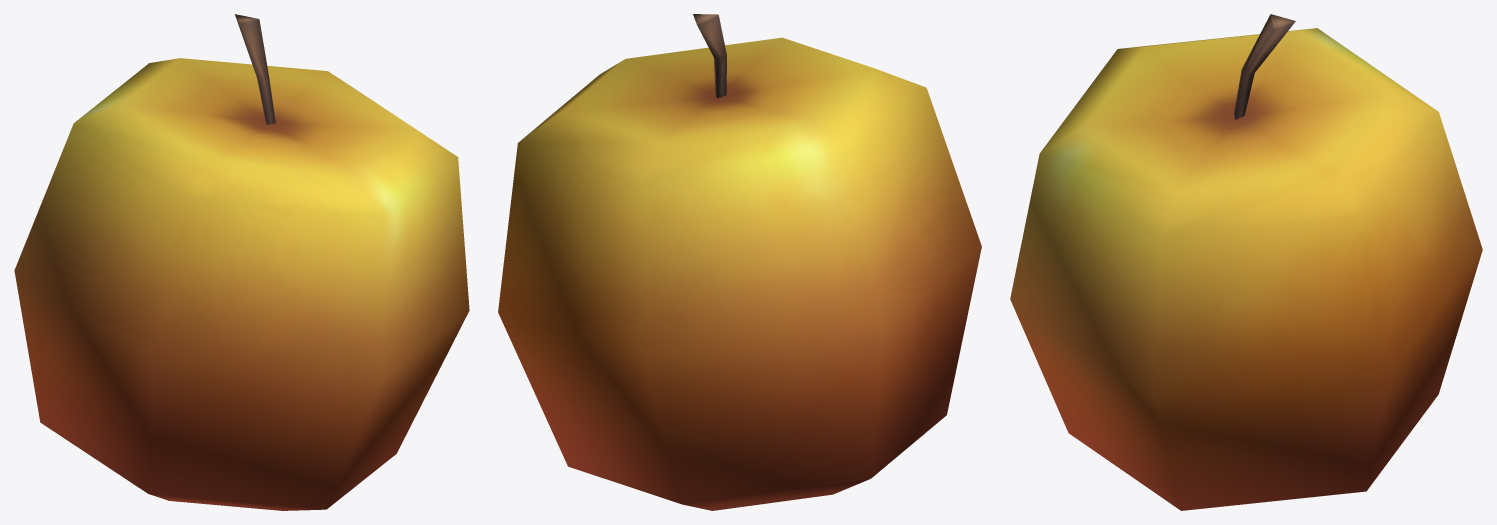
The model's file is map_7201_xwj_05.FBX.
3 renders of one model, left to right at view 1: azimuth 30°, elevation 25°; view 2: azimuth 150°, elevation 25°; view 3: azimuth 270°, elevation 25°, orthographic. The views are drawn at different scales.
Visible parts, largest first — view 1: map_7201_xwj_05; view 2: map_7201_xwj_05; view 3: map_7201_xwj_05.
Boxes of the visible parts, x1,y1,x2,y2 form: map_7201_xwj_05: [14, 14, 469, 510]; map_7201_xwj_05: [498, 14, 981, 510]; map_7201_xwj_05: [1010, 14, 1482, 510].
Bounding box in the file's own units: 0.1651 × 0.1924 × 0.1801.
